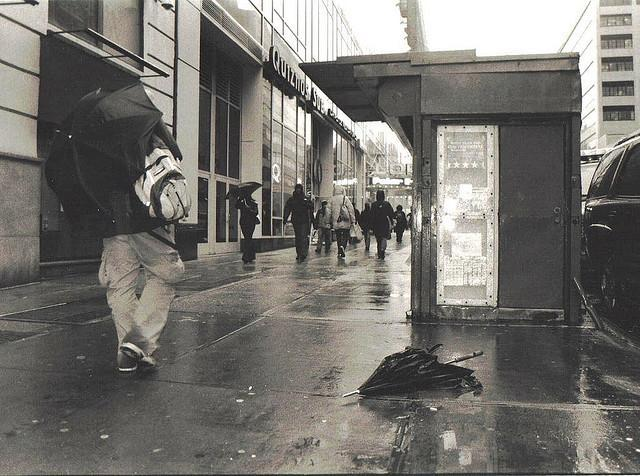car: (580, 129, 640, 354)
